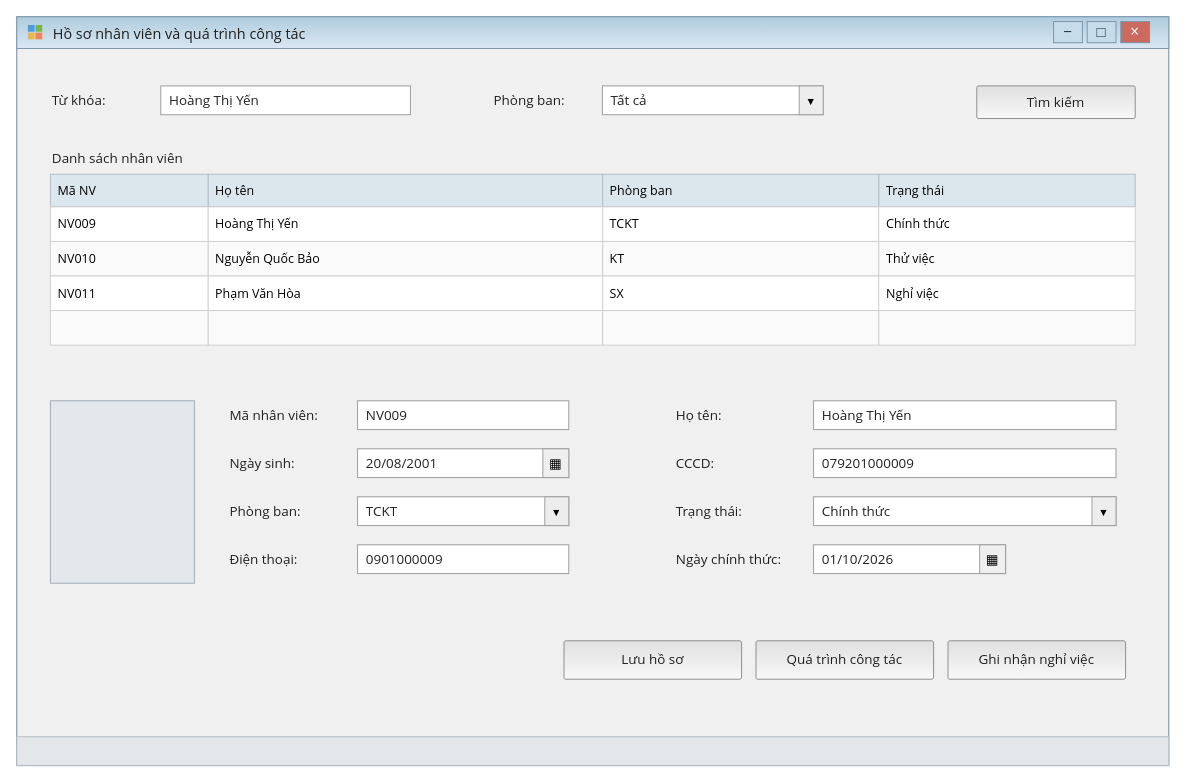
Some shapes in this 1186 by 782 pixel diagram are drawn without their labels. The shapes that lost their labels are listed below. From the top down, each one's centre as x and y in pixels, then its label:
(121,491): ẢNH HỒ SƠ
(592,751): Mã nhân viên không đổi; hồ sơ công tác và các quyết định được lưu theo lịch sử.
